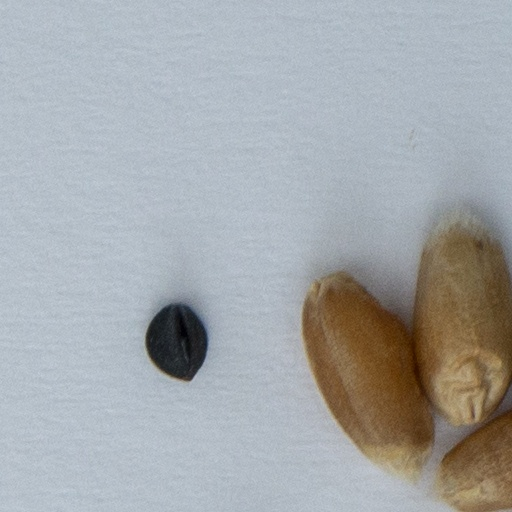Fallopia-Convolvulus-poly: (146, 304, 204, 380)
